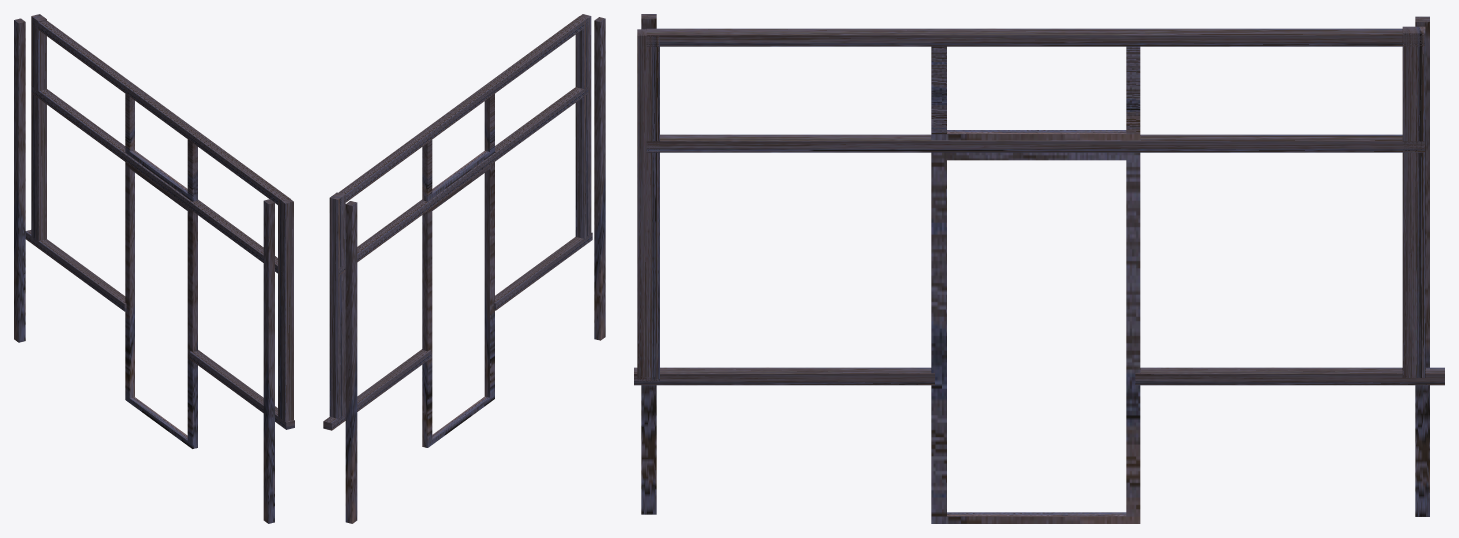
Rendered from SM_steelframe.fbx.
3 renders of one model, left to right at view 1: azimuth 30°, elevation 25°; view 2: azimuth 150°, elevation 25°; view 3: azimuth 270°, elevation 25°, orthographic. The views are drawn at different scales.
Visible parts, largest first — view 1: SM_unistrutR; view 2: SM_unistrutR; view 3: SM_unistrutR.
Part boxes in pixels (x1,y1,x2,y2): SM_unistrutR: [14, 14, 294, 523]; SM_unistrutR: [323, 14, 605, 523]; SM_unistrutR: [634, 14, 1444, 523].
Size of the model in its own units: 21 by 265 by 391.
